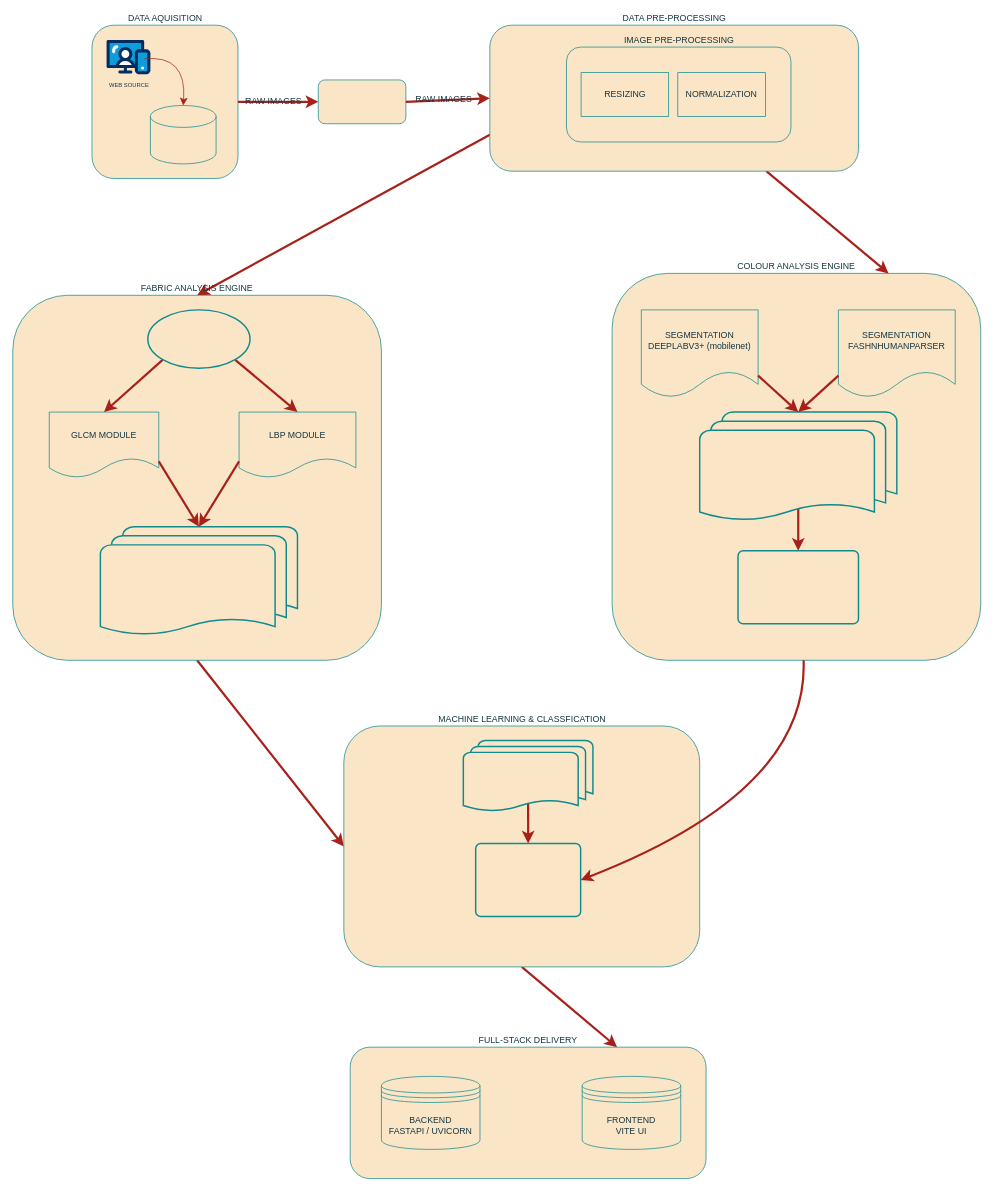
Image size: 994x1191. Some labels were removed from this diagram. Here are the shapes that lost their labels. From the top down, the centre of each, then its label:
At (362,101): "FILE STORAGE SYSTEM".
At (183,134): "SELENIUM SCRAPPER".
At (198,339): "CHANNNEL SEPARATION".
At (798,466): "COLOUR EXTRACTION (K-MEANS CLUSTERING)".
At (198,581): "DATA FUSION".
At (798,587): "REFINEMENT".
At (527,775): "LINEAR SVC (SVM)".
At (528,879): "DATA SERIALIZATION".
